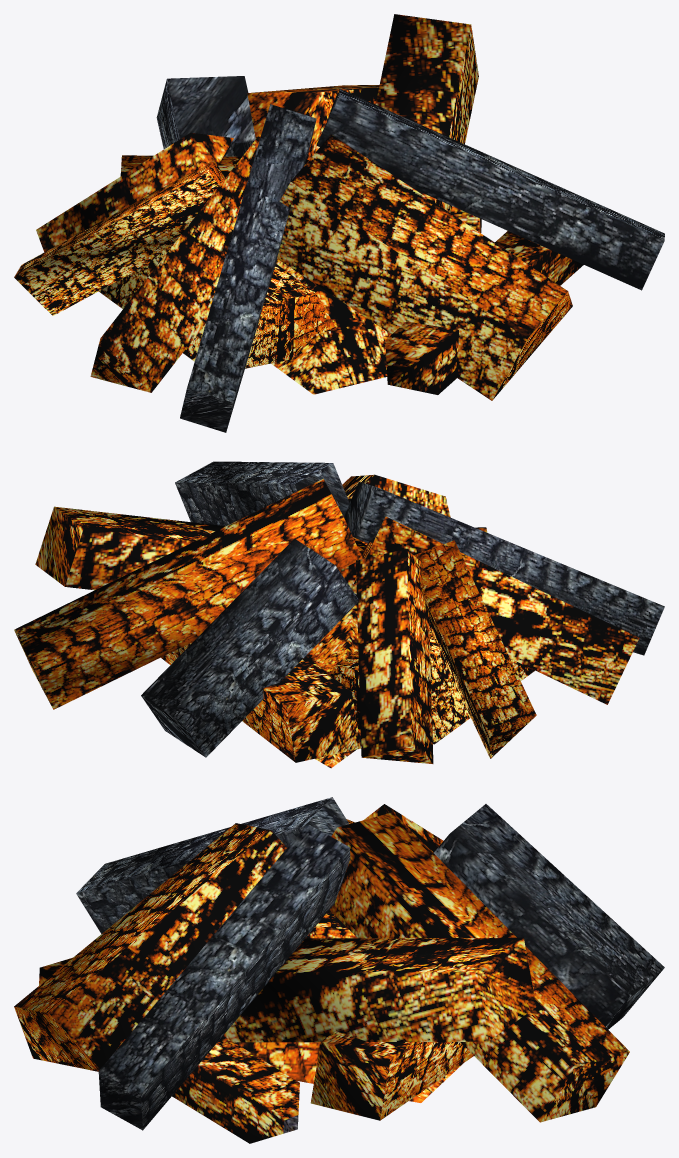
File: wood_burn2.fbx
The picture shows the model from 3 angles, top to bottom: view 1: azimuth 30°, elevation 25°; view 2: azimuth 150°, elevation 25°; view 3: azimuth 270°, elevation 25°; orthographic projection. The views are drawn at different scales.
Visible parts, largest first — view 1: polySurface671; view 2: polySurface671; view 3: polySurface671.
Boxes of the visible parts, bbox=[...] form: polySurface671: bbox=[14, 14, 664, 432]; polySurface671: bbox=[14, 461, 664, 768]; polySurface671: bbox=[14, 797, 664, 1143].
Bounding box in the file's own units: 0.7702 × 0.3013 × 0.7897.
